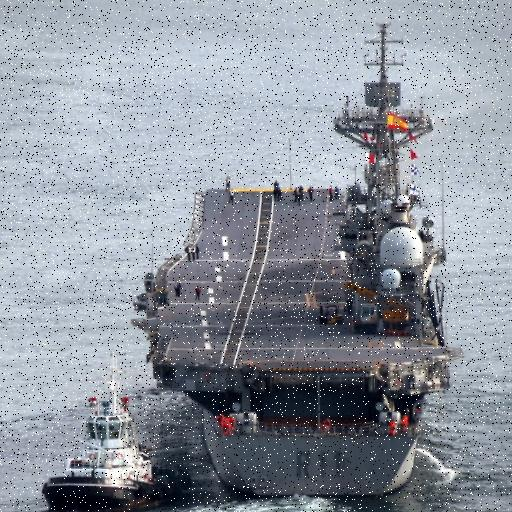Portanaves: (133, 11, 459, 509)
